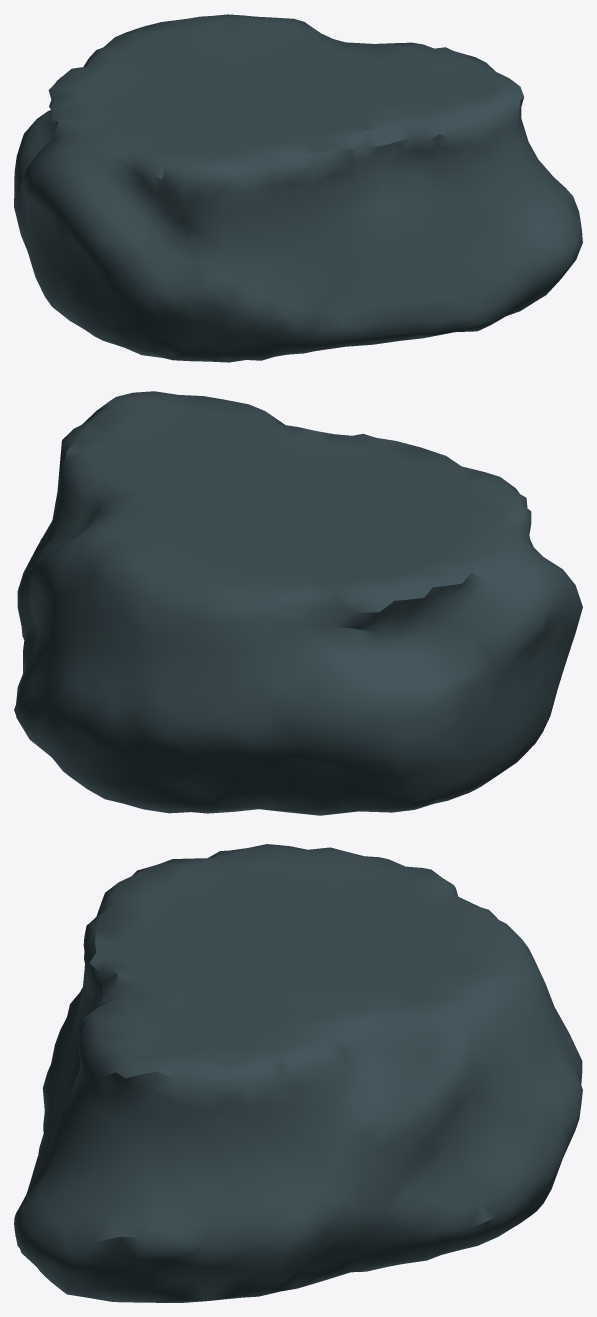
File: rock.fbx
The picture shows the model from 3 angles, top to bottom: view 1: azimuth 30°, elevation 25°; view 2: azimuth 150°, elevation 25°; view 3: azimuth 270°, elevation 25°; orthographic projection. The views are drawn at different scales.
Visible parts, largest first — view 1: ShortFlatRock_A; view 2: ShortFlatRock_A; view 3: ShortFlatRock_A.
Boxes of the visible parts, box(x1,y1,x2,y2) form: ShortFlatRock_A: box(14, 14, 582, 362); ShortFlatRock_A: box(14, 391, 582, 815); ShortFlatRock_A: box(14, 844, 582, 1302).
Size of the model in its own units: 2009 by 790 by 1714.
